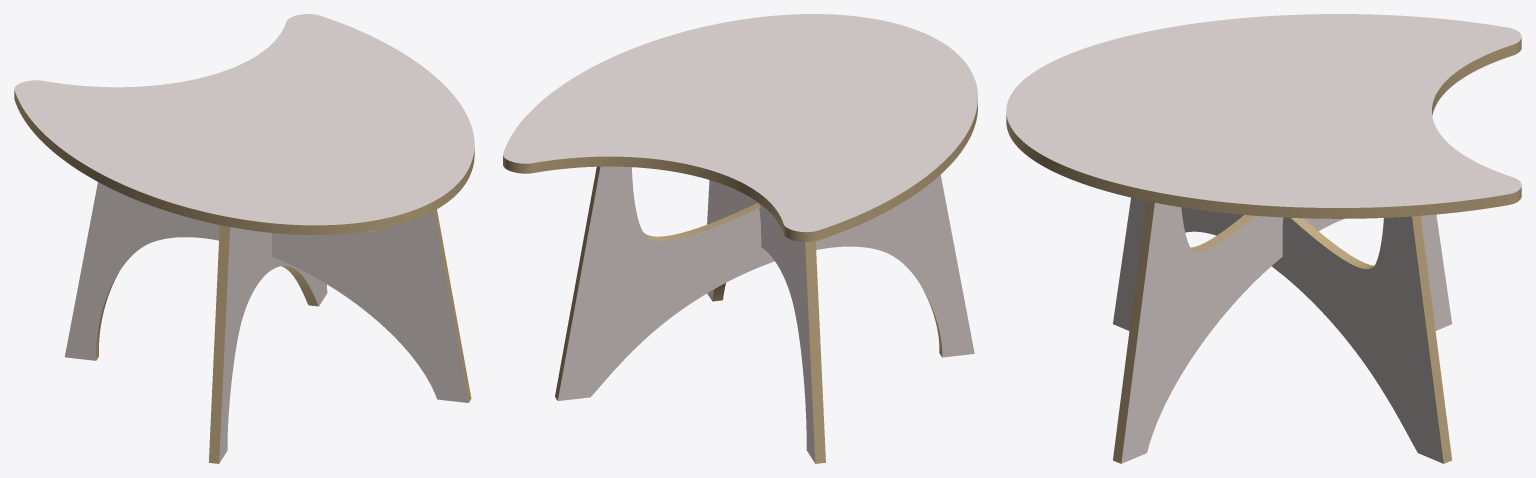
Rendered from NODO_MESA_RATONA_EN_CRUZ_PARAISO_V14_AR_YUP.glb.
The picture shows the model from 3 angles, left to right: view 1: azimuth 30°, elevation 25°; view 2: azimuth 150°, elevation 25°; view 3: azimuth 270°, elevation 25°; orthographic projection. The views are drawn at different scales.
Visible parts, largest first — view 1: Tapa_cuerpo_18mm, Pata_B_cuerpo, Pata_A_cuerpo, Tapa_canto_18mm_visible, Pata_A_canto, Pata_B_canto; view 2: Tapa_cuerpo_18mm, Pata_A_cuerpo, Pata_B_cuerpo, Tapa_canto_18mm_visible, Pata_B_canto, Pata_A_canto; view 3: Tapa_cuerpo_18mm, Pata_A_cuerpo, Pata_B_cuerpo, Tapa_canto_18mm_visible, Pata_A_canto, Pata_B_canto.
Boxes of the visible parts, <box> form: Tapa_cuerpo_18mm: <box>14,14,474,225</box>; Pata_B_cuerpo: <box>65,182,468,402</box>; Pata_A_cuerpo: <box>219,227,327,463</box>; Tapa_canto_18mm_visible: <box>14,90,474,234</box>; Pata_A_canto: <box>208,225,318,463</box>; Pata_B_canto: <box>96,209,471,402</box>; Tapa_cuerpo_18mm: <box>503,14,977,232</box>; Pata_A_cuerpo: <box>558,166,974,400</box>; Pata_B_cuerpo: <box>707,180,815,463</box>; Tapa_canto_18mm_visible: <box>503,101,977,241</box>; Pata_B_canto: <box>712,241,825,463</box>; Pata_A_canto: <box>555,166,942,400</box>; Tapa_cuerpo_18mm: <box>1006,14,1521,207</box>; Pata_A_cuerpo: <box>1113,197,1443,463</box>; Pata_B_cuerpo: <box>1121,202,1451,463</box>; Tapa_canto_18mm_visible: <box>1006,38,1521,218</box>; Pata_A_canto: <box>1291,216,1451,463</box>; Pata_B_canto: <box>1113,201,1255,463</box>.
Bounding box in the file's own units: 0.6924 × 0.468 × 0.7771.
